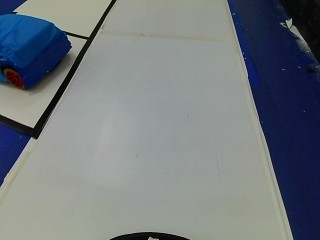car: (0, 7, 71, 92)
